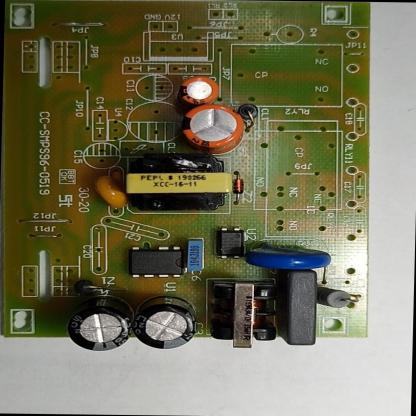Cap1: (177, 100, 250, 156)
Cap2: (176, 74, 222, 110)
Cap3: (129, 296, 199, 351)
Cap4: (59, 295, 135, 355)
MOSFET: (124, 243, 190, 280)
Mov: (245, 240, 334, 273)
Resistor: (316, 282, 361, 311)
Transformer: (121, 152, 234, 213), (203, 277, 282, 351)
